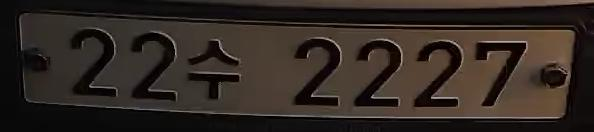2: (64, 24, 127, 102), (408, 38, 470, 112), (349, 36, 409, 111), (291, 32, 348, 110), (128, 26, 183, 105)
7: (469, 34, 530, 111)
수: (183, 31, 244, 104)
